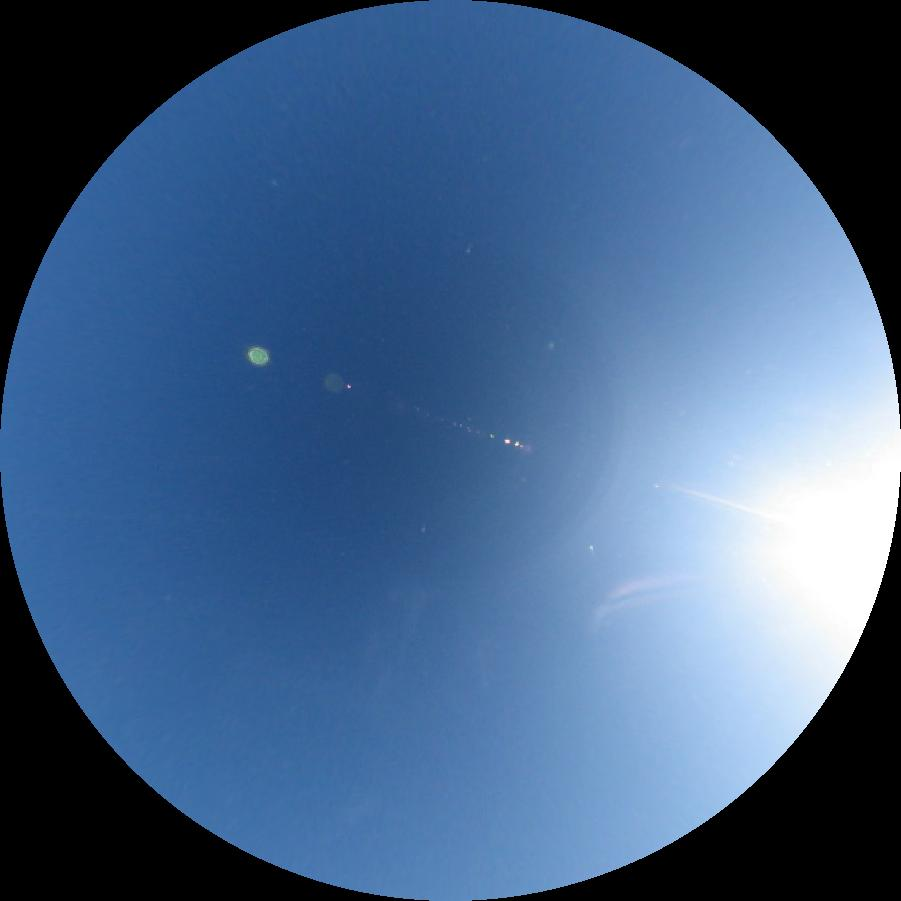parasite: (668, 483, 779, 524)
sun: (778, 462, 899, 660)
